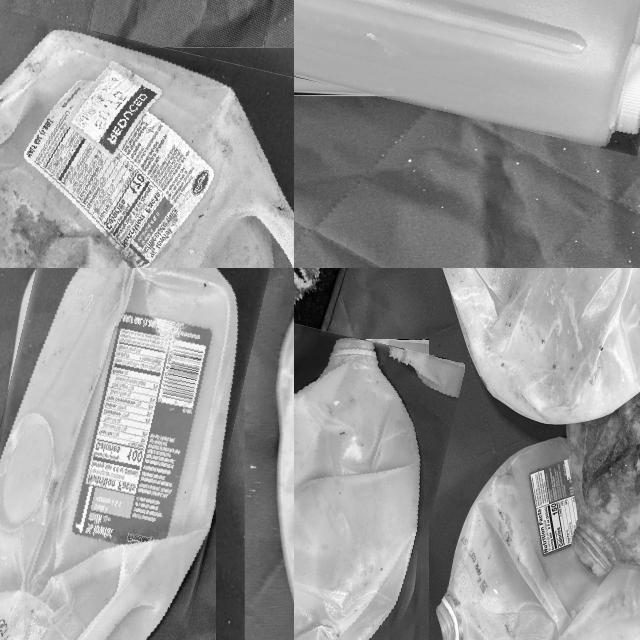milk-jug: (0, 268, 245, 640), (0, 26, 294, 268), (294, 331, 447, 640), (294, 0, 640, 125), (444, 428, 640, 640), (432, 268, 640, 417), (562, 268, 640, 580)
